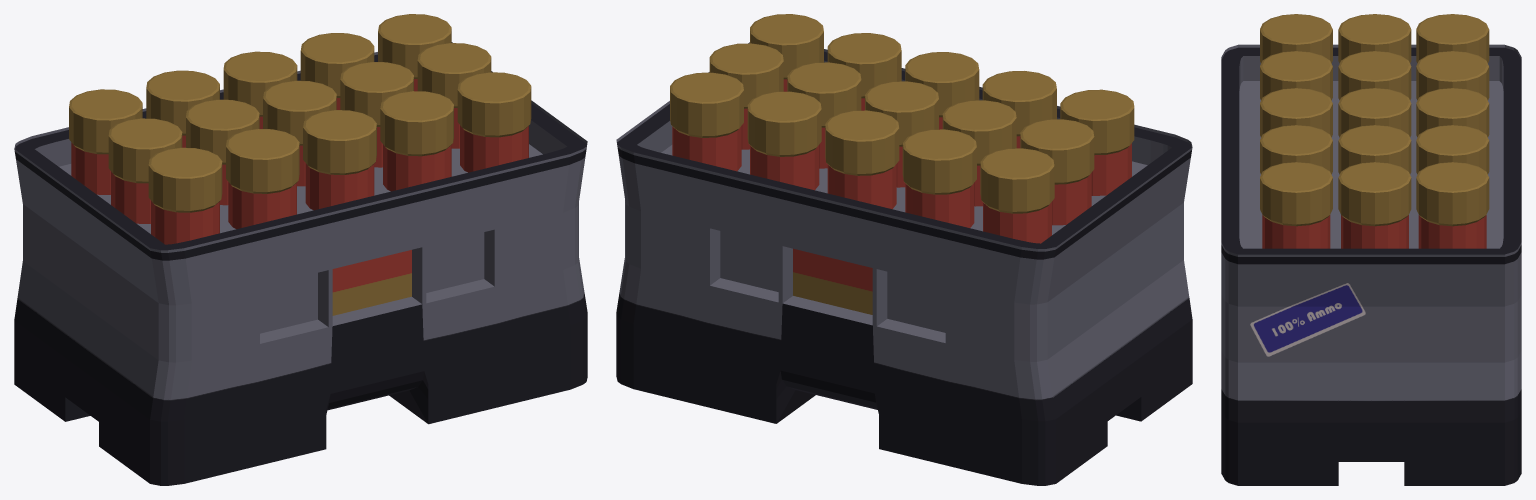
The model's file is ShotGunAmmo.glb.
3 renders of one model, left to right at view 1: azimuth 30°, elevation 25°; view 2: azimuth 150°, elevation 25°; view 3: azimuth 270°, elevation 25°, orthographic. The views are drawn at different scales.
Visible parts, largest first — view 1: Cube.001; view 2: Cube.001; view 3: Cube.001.
Boxes of the visible parts, left/top/right/bottom form: Cube.001: left=14, top=14, right=587, bottom=485; Cube.001: left=616, top=14, right=1192, bottom=485; Cube.001: left=1221, top=14, right=1521, bottom=485.
Size of the model in its own units: 0.6585 by 0.4082 by 0.3984.
Materials: 1 (1 with a texture image).
